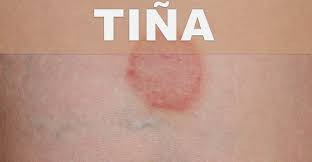tina: (118, 46, 217, 123)
